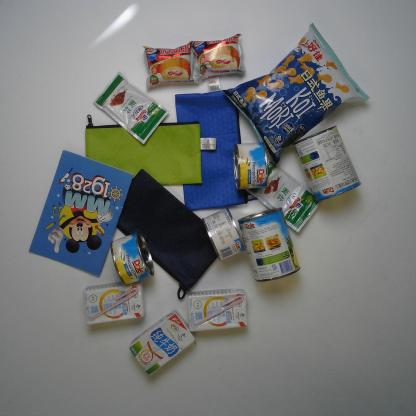Canned Food: (292, 125, 362, 203), (236, 207, 300, 282), (110, 232, 156, 286), (202, 206, 246, 262), (233, 141, 269, 191)
Dessert: (188, 34, 246, 82), (143, 41, 201, 89)
Milk: (128, 309, 196, 376), (82, 281, 146, 326), (187, 288, 249, 332)
Puffed Food: (222, 22, 370, 165)
Seasoner: (92, 71, 170, 145), (244, 158, 322, 232)
Stationery: (110, 169, 219, 300), (28, 150, 134, 278), (174, 76, 249, 212), (84, 114, 218, 186)
